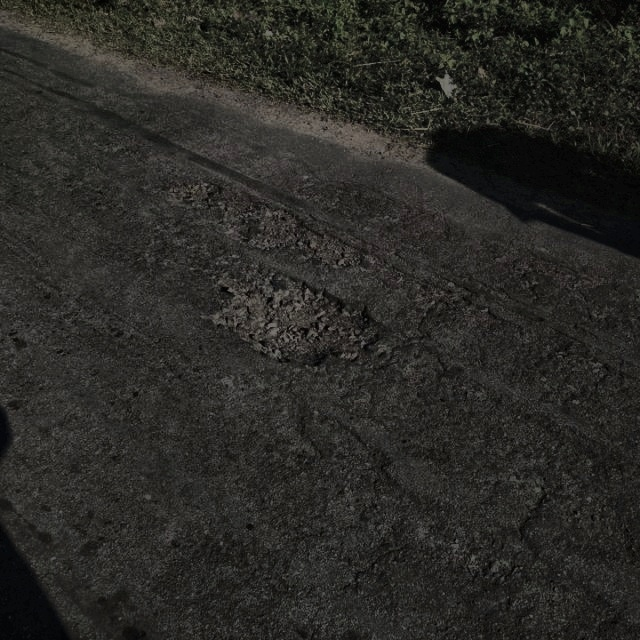Pothole: (205, 267, 398, 369), (230, 202, 374, 270), (165, 177, 223, 211)
